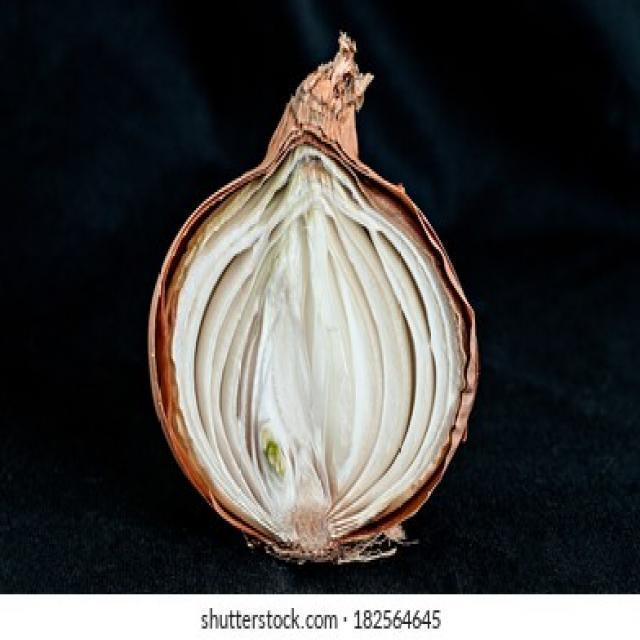Onion: (152, 29, 482, 558)
